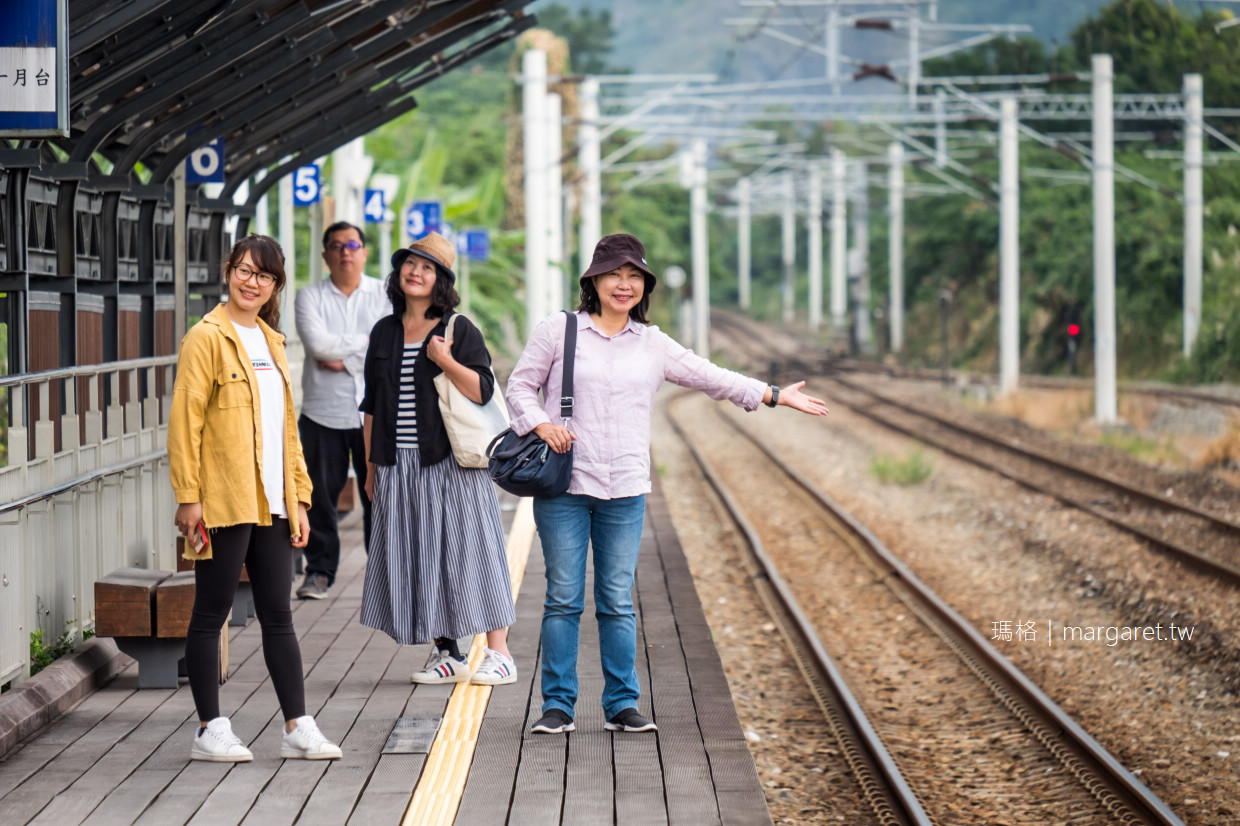people: (180, 239, 338, 762), (522, 236, 659, 739), (375, 229, 522, 690), (303, 218, 384, 583)
